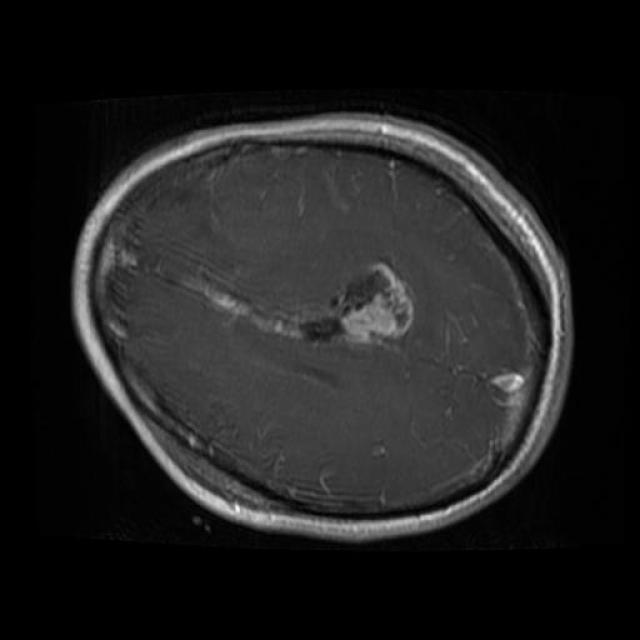Glioma: (301, 262, 413, 342)
